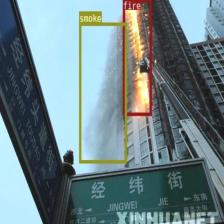fire: (122, 0, 152, 115)
smoke: (78, 22, 126, 163)
